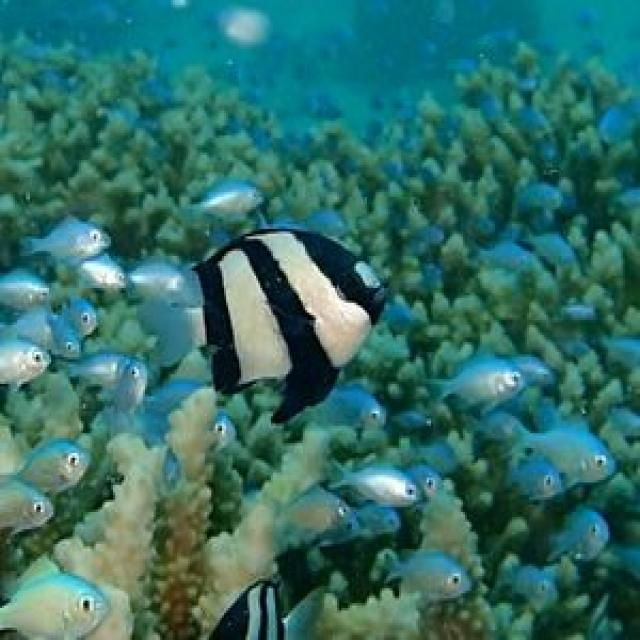ThreeStripedDamselfish: (139, 229, 388, 426)
